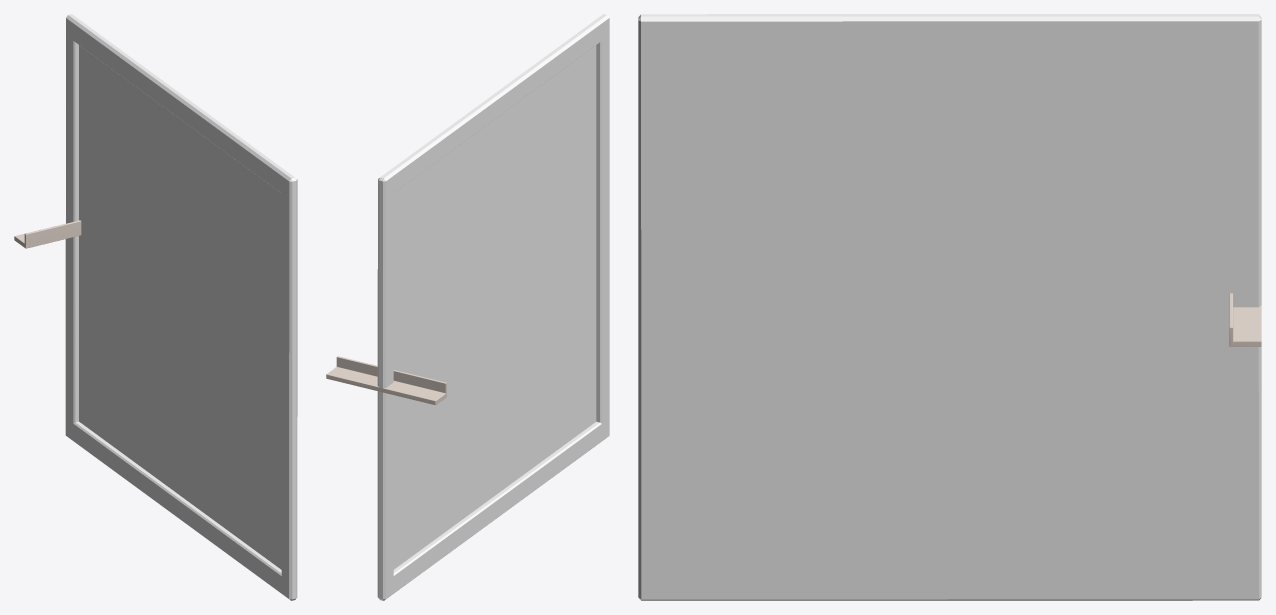
File: Cabinet_51b68a2f.obj
3 renders of one model, left to right at view 1: azimuth 30°, elevation 25°; view 2: azimuth 150°, elevation 25°; view 3: azimuth 270°, elevation 25°, orthographic. The views are drawn at different scales.
Parts seen in each view (by area): view 1: Mesh_01_2d49d363, handle_3_178mm_01_91294114; view 2: Mesh_01_2d49d363, handle_3_178mm_01_91294114; view 3: Mesh_01_2d49d363, handle_3_178mm_01_91294114.
Boxes of the visible parts, x1,y1,x2,y2 form: Mesh_01_2d49d363: (65, 14, 297, 600); handle_3_178mm_01_91294114: (14, 220, 81, 248); Mesh_01_2d49d363: (377, 14, 609, 600); handle_3_178mm_01_91294114: (326, 356, 446, 405); Mesh_01_2d49d363: (638, 14, 1261, 600); handle_3_178mm_01_91294114: (1229, 293, 1261, 346).
Bounding box in the file's own units: 0.178 × 0.6576 × 0.6358.
